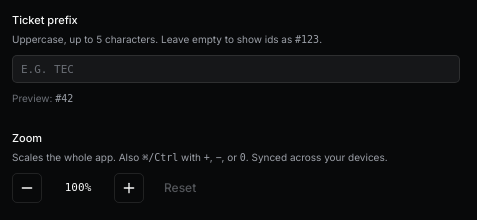
Test case: GeneralSettings — zoom › zooms in one step and reflects the new level
The width and height of the screenshot is (477, 220).
Click the button named "Zoom in".
click(129, 188)  # box [114, 173, 144, 203]
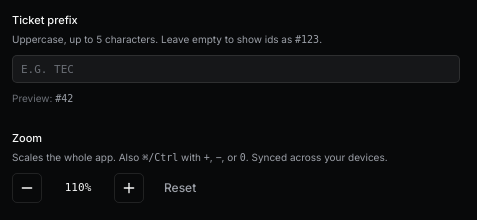
Now the text "110%" is shown, box [65, 181, 91, 194]
